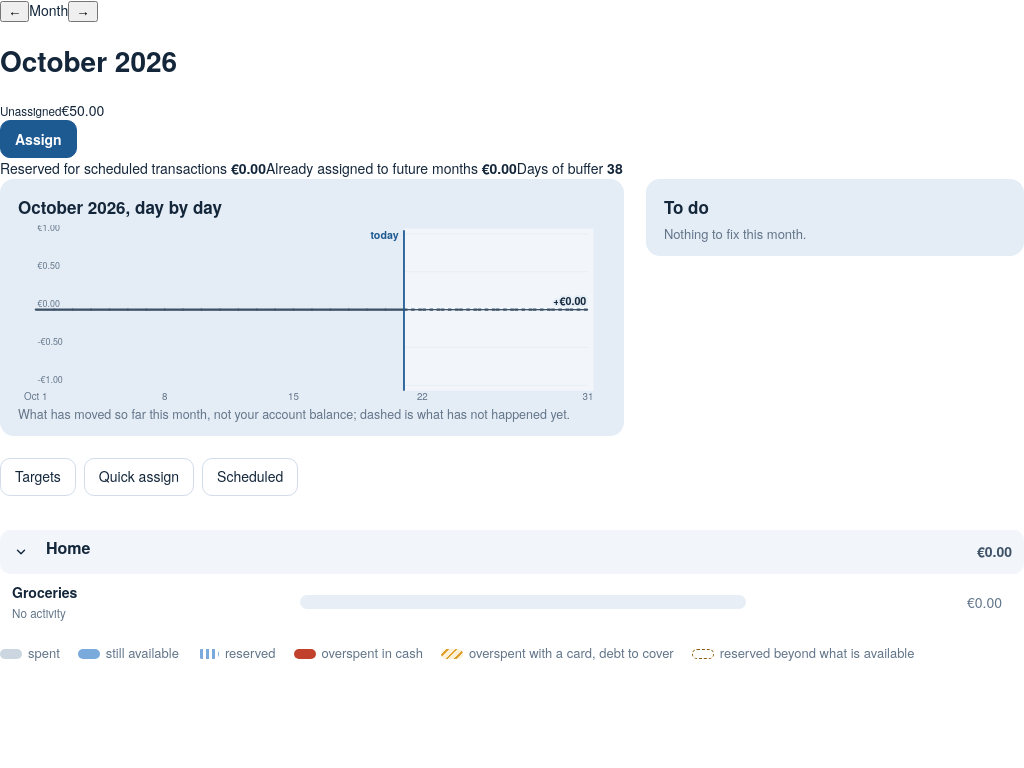
Test: BudgetScreen (#53, #324) › opens the 'Assign' form from the band's unassigned-money box (#328)
Check: the text "Groceries" is shown, box [12,582,77,602]
Click the button "Assign": (38,139) [0,120,77,158]
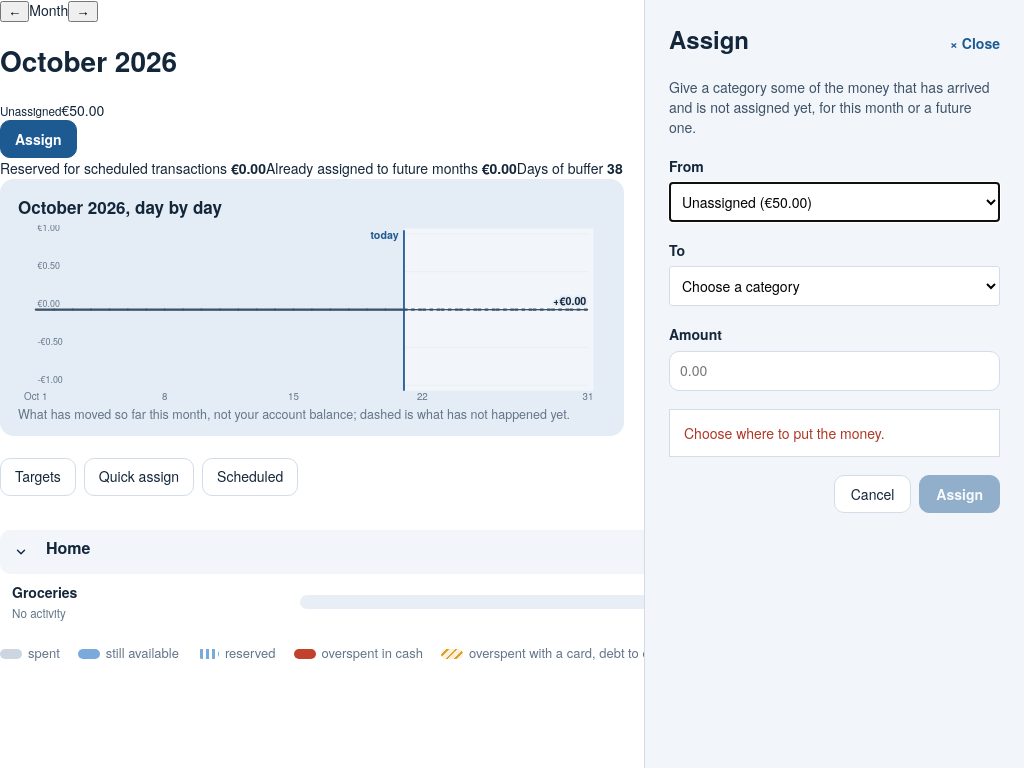
Check: the heading "Assign" is shown, box [669,22,749,57]
